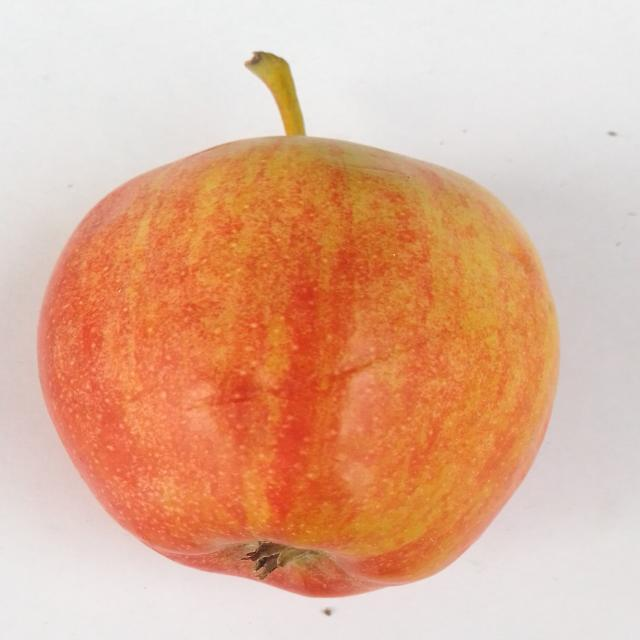Fresh Apple: (30, 125, 567, 597)
